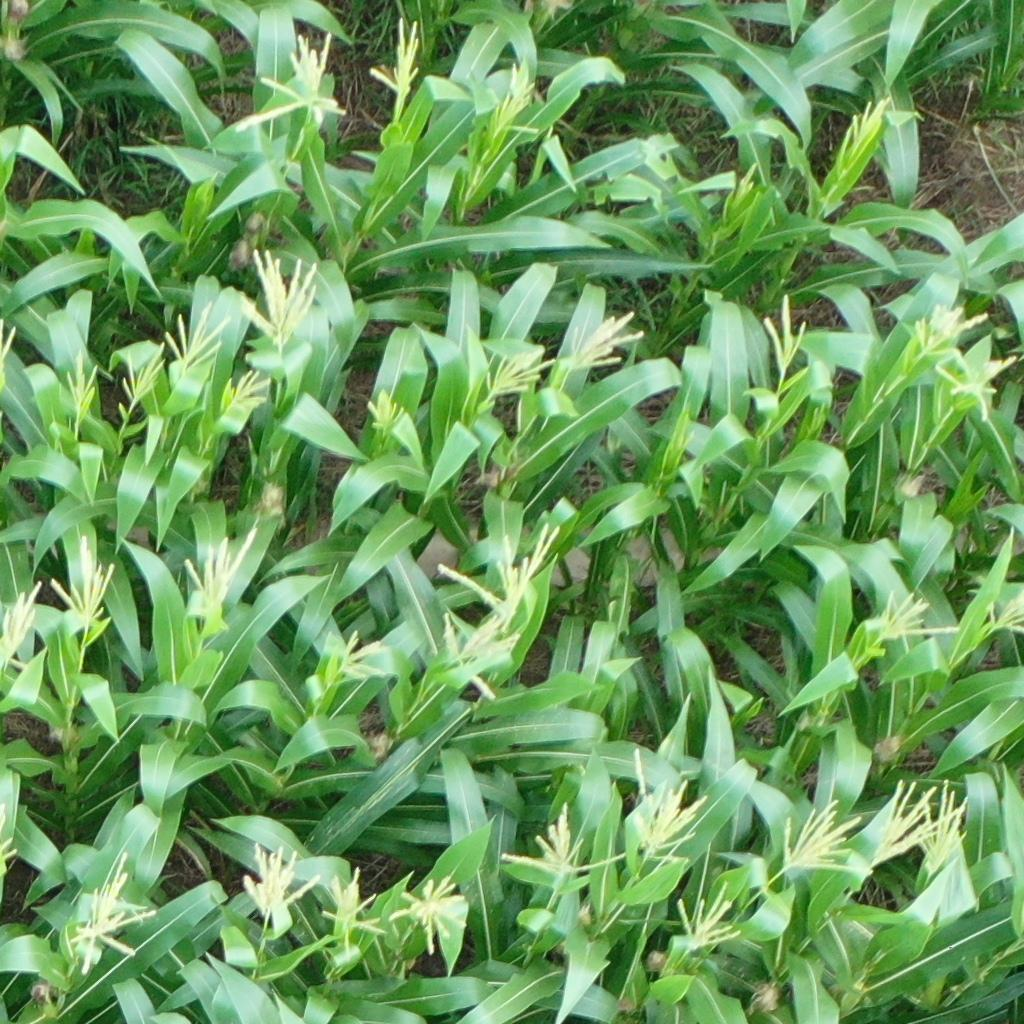Tassel: (233, 26, 354, 136), (439, 518, 565, 613), (504, 804, 627, 892), (75, 848, 156, 971), (628, 747, 708, 866), (232, 250, 321, 349), (776, 797, 874, 879), (438, 607, 517, 704), (876, 776, 968, 857), (179, 524, 260, 611), (235, 839, 322, 920), (48, 535, 117, 635), (390, 872, 472, 956), (933, 348, 1015, 422), (672, 877, 743, 962), (369, 15, 429, 113), (322, 861, 388, 949), (162, 300, 231, 374), (564, 313, 647, 372), (872, 590, 960, 644), (920, 779, 970, 869), (487, 62, 545, 139), (478, 344, 557, 398), (761, 292, 811, 375), (320, 627, 387, 688), (1, 578, 45, 666), (914, 302, 987, 352), (844, 93, 892, 157), (120, 341, 168, 404), (62, 348, 103, 417), (221, 370, 275, 415), (985, 587, 1024, 636), (1, 799, 26, 871), (365, 393, 404, 433), (735, 161, 758, 197)
